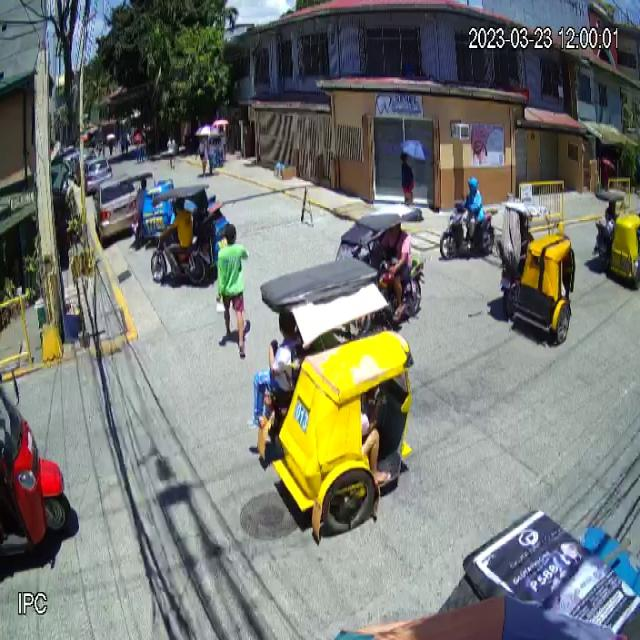Motorcycle: (439, 202, 496, 262)
Tricycle: (257, 255, 415, 543), (495, 201, 576, 346)
